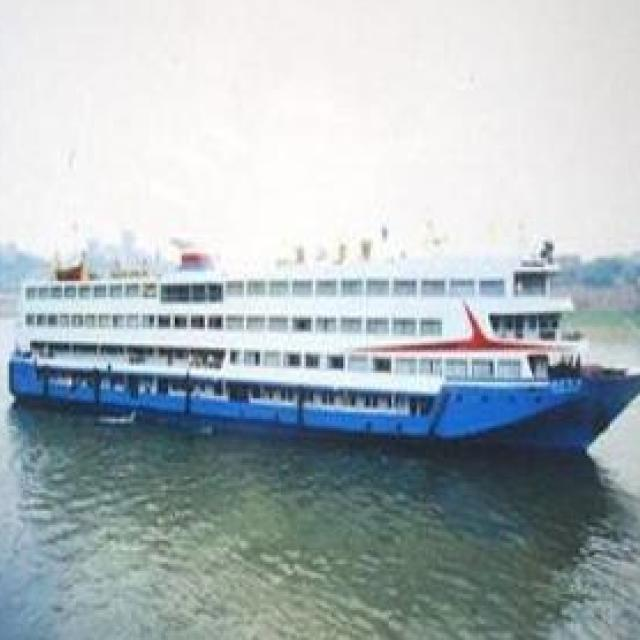passenger ship: (5, 232, 640, 444)
